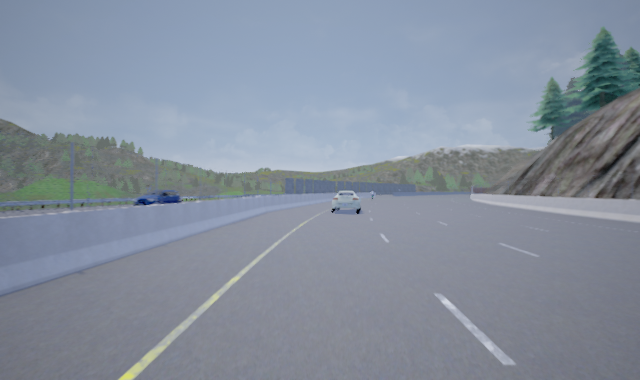vehicle: (131, 189, 181, 209), (330, 190, 362, 214)
